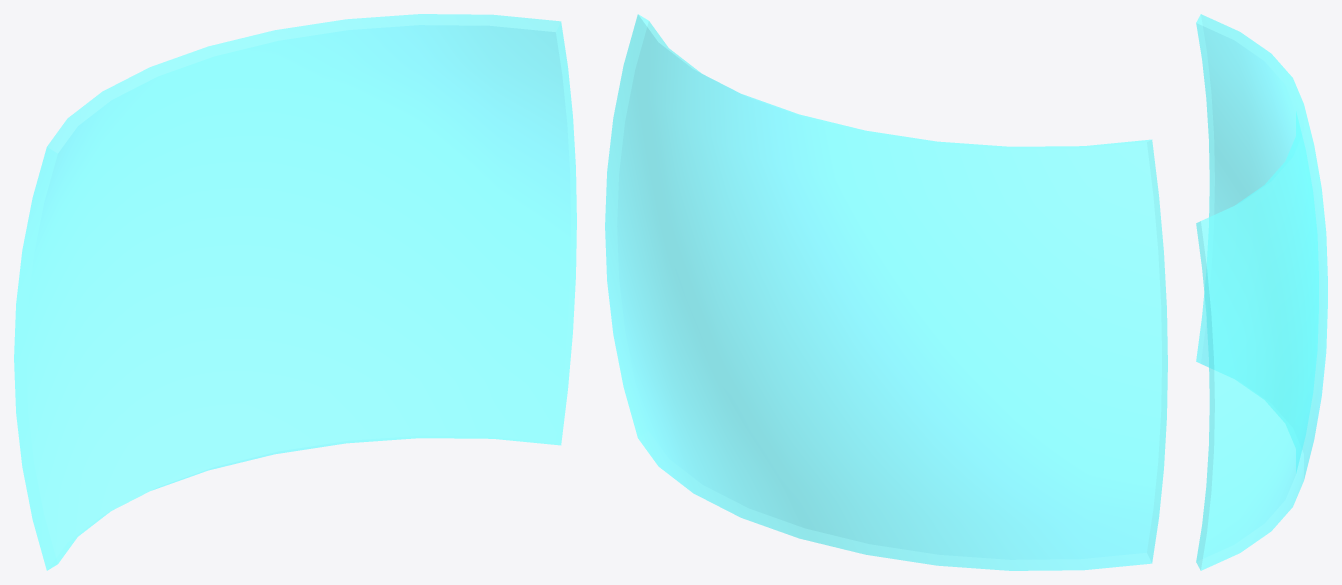
Rendered from ShieldSphereSection.fbx.
3 renders of one model, left to right at view 1: azimuth 30°, elevation 25°; view 2: azimuth 150°, elevation 25°; view 3: azimuth 270°, elevation 25°, orthographic. The views are drawn at different scales.
Parts seen in each view (by area): view 1: polySurface1; view 2: polySurface1; view 3: polySurface1.
Part boxes in pixels (x1,y1,x2,y2): polySurface1: [14, 14, 576, 570]; polySurface1: [605, 14, 1167, 570]; polySurface1: [1196, 14, 1327, 570].
Size of the model in its own units: 3.34 by 2.41 by 0.8218.
